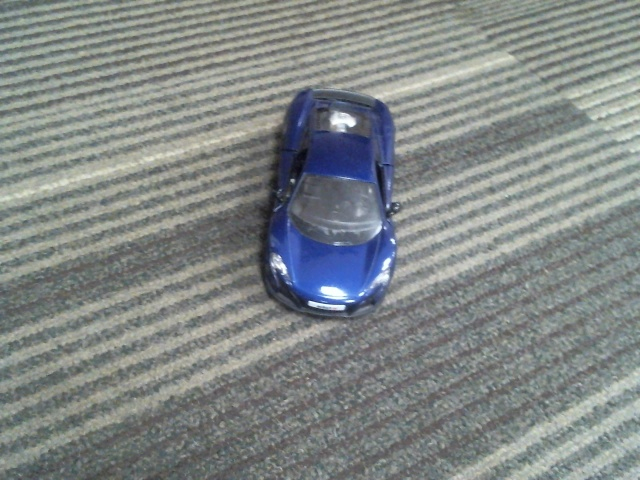car: (261, 88, 402, 316)
